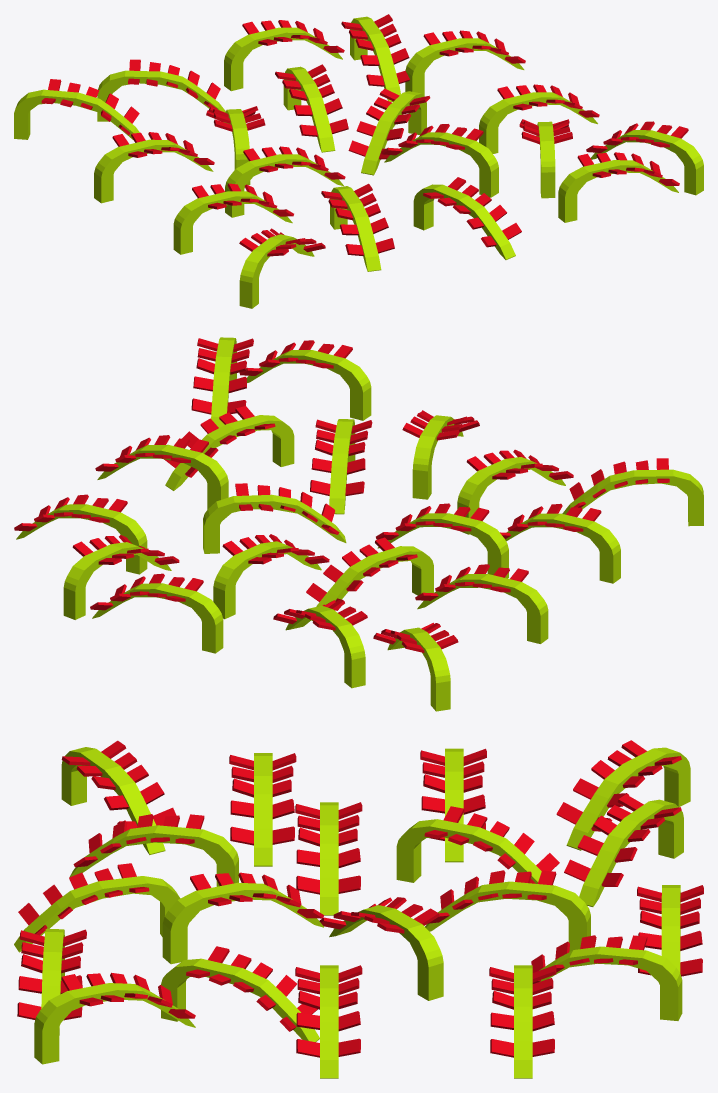
Rendered from SundewPatch.fbx.
The picture shows the model from 3 angles, top to bottom: view 1: azimuth 30°, elevation 25°; view 2: azimuth 150°, elevation 25°; view 3: azimuth 270°, elevation 25°; orthographic projection. The views are drawn at different scales.
Parts seen in each view (by area): view 1: Cube.001; view 2: Cube.001; view 3: Cube.001.
Part boxes in pixels (x1,y1,x2,y2): Cube.001: (14, 14, 703, 308); Cube.001: (14, 337, 703, 711); Cube.001: (14, 740, 703, 1078).
Bounding box in the file's own units: 185 × 185 × 25.14.
